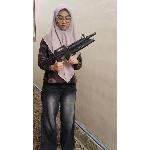Senapan: (39, 32, 100, 70)
